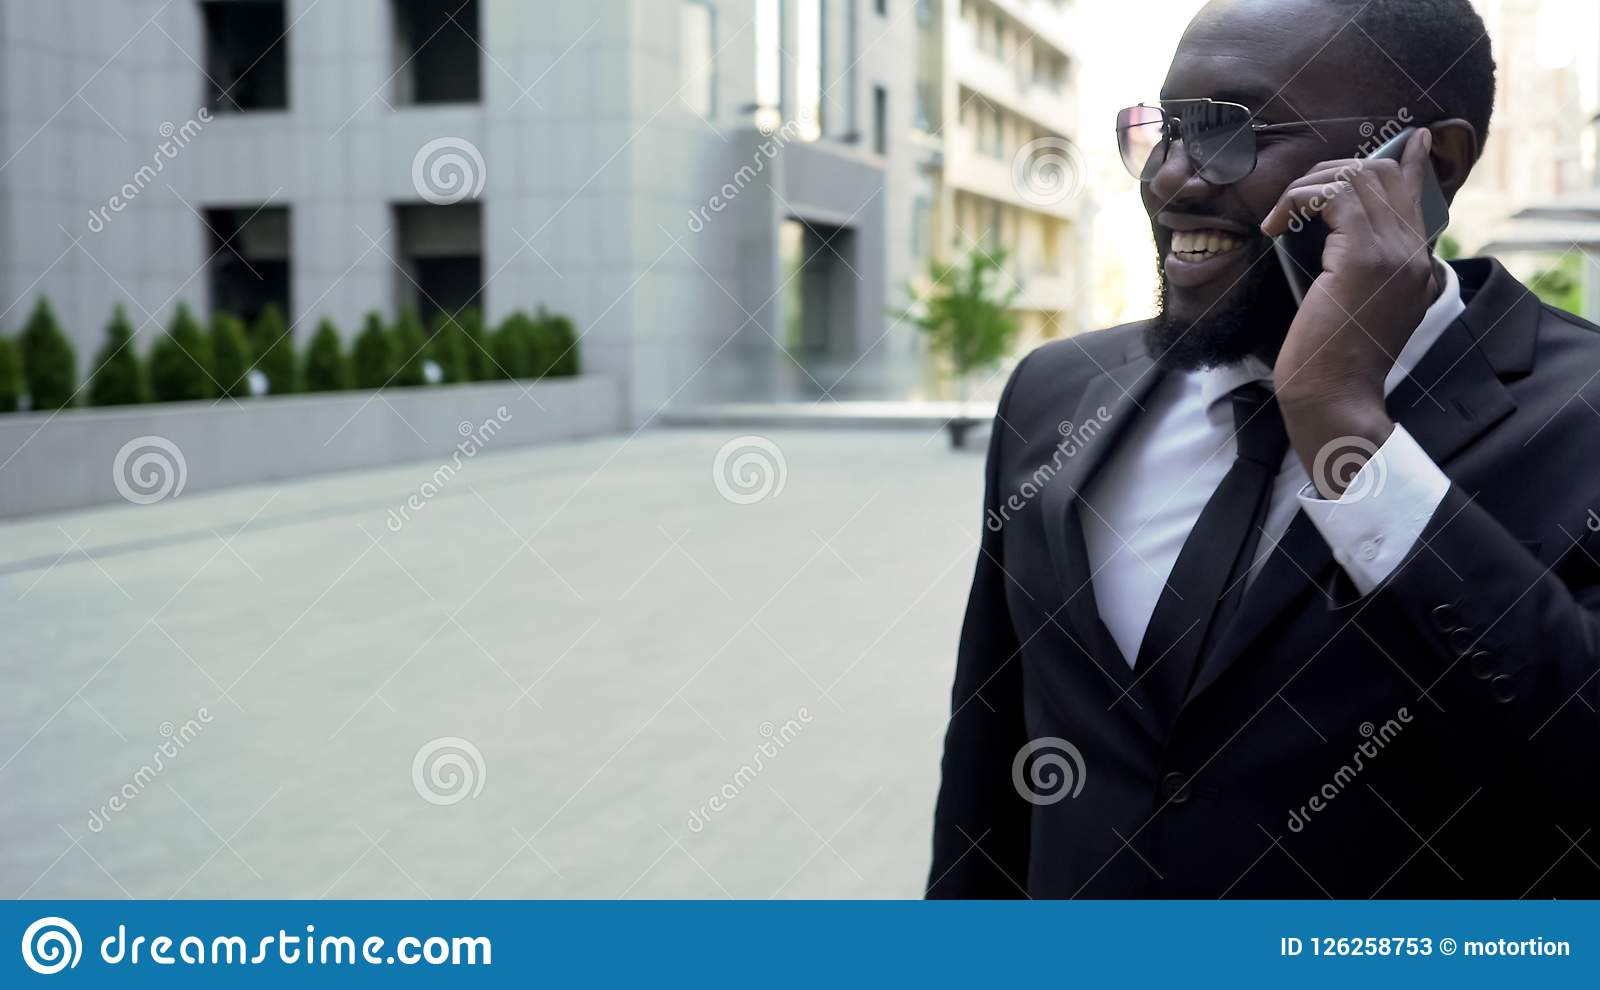phone: (1269, 128, 1453, 329)
talk: (1145, 56, 1455, 444)
